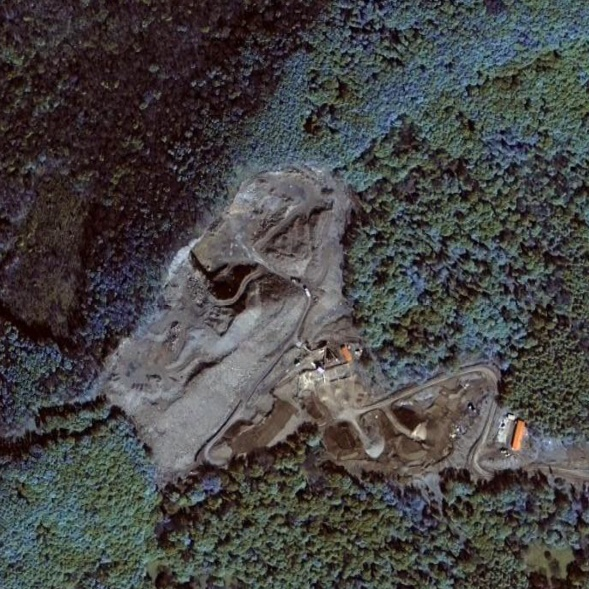slope: (95, 159, 369, 487), (323, 370, 495, 510)
